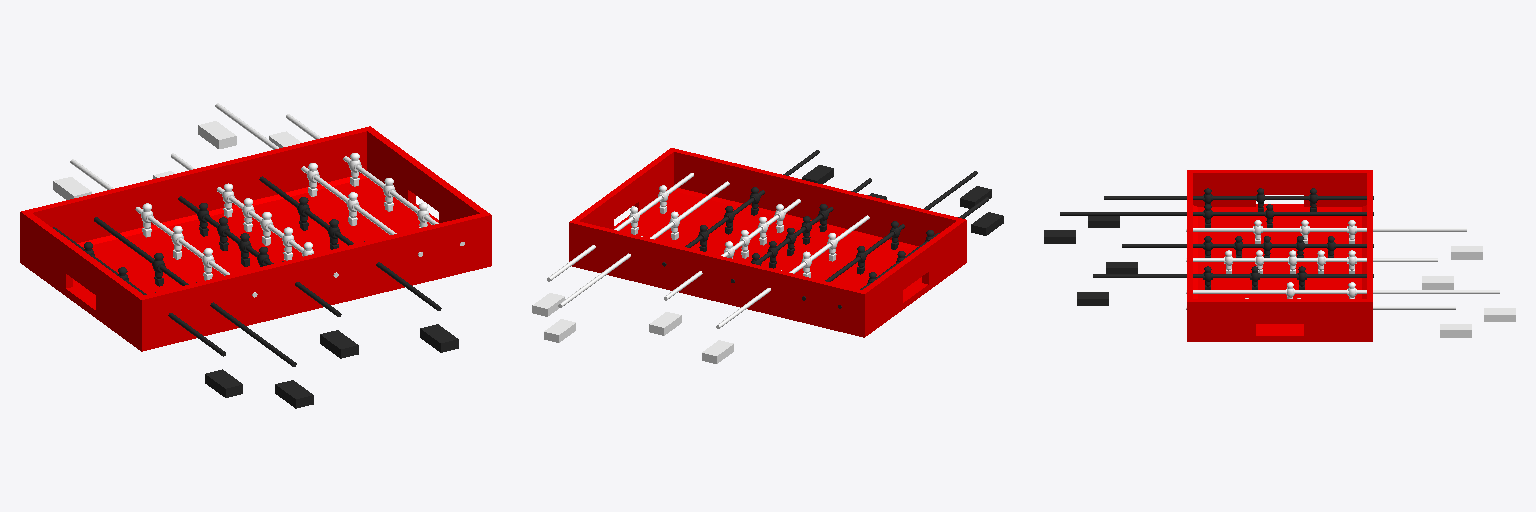
--- What the picture shows (computed from the rendered views, not written in the file) ---
The picture shows the robot from 3 angles, left to right: view 1: azimuth 30°, elevation 25°; view 2: azimuth 150°, elevation 25°; view 3: azimuth 270°, elevation 25°; orthographic projection.
Robot: collision_table — 43 links, 42 joints (8 continuous, 8 prismatic, 26 fixed); root link baseLink; default pose: every joint at zero.
Links seen in each view (by area): view 1: baseLink, defenseRod2, defenseRod1, strikerRod2, strikerBlock2, midfieldBlock2, strikerRod1, defenseBlock2, defenseBlock1, goalieBlock2, midfieldRod2, goalieRod1 (+2 smaller); view 2: baseLink, defenseRod1, defenseRod2, strikerRod1, goalieRod1; view 3: baseLink, defenseRod1, defenseRod2, strikerRod1, strikerRod2, goalieRod2, midfieldRod1, midfieldRod2.
Boxes of the visible links, x1,y1,x2,y2 form: baseLink: (20, 126, 491, 351); defenseRod2: (94, 217, 296, 366); defenseRod1: (215, 103, 422, 256); strikerRod2: (259, 176, 441, 310); strikerBlock2: (420, 324, 458, 352); midfieldBlock2: (320, 330, 358, 358); strikerRod1: (70, 159, 257, 297); defenseBlock2: (275, 380, 313, 408); defenseBlock1: (198, 121, 236, 148); goalieBlock2: (205, 369, 242, 397); midfieldRod2: (178, 196, 341, 316); goalieRod1: (286, 114, 464, 245); baseLink: (569, 148, 966, 337); defenseRod1: (558, 181, 729, 307); defenseRod2: (802, 171, 977, 300); strikerRod1: (716, 215, 869, 328); goalieRod1: (547, 173, 693, 281); baseLink: (1187, 170, 1372, 341); defenseRod1: (1186, 290, 1499, 293); defenseRod2: (1060, 212, 1373, 215); strikerRod1: (1186, 228, 1466, 231); strikerRod2: (1093, 274, 1373, 277); goalieRod2: (1104, 196, 1373, 199); midfieldRod1: (1186, 258, 1437, 261); midfieldRod2: (1122, 244, 1373, 247).
Size in the robot's own frame: 1.22 by 1.84 by 0.1871 metres.
Meshes: 2 distinct files referenced, 27 mesh visuals loaded (2 OBJ).

URDF robot description (collision_table):
<?xml version="1.0" ?>
<!-- =================================================================================== -->
<!-- |    This document was autogenerated by xacro from TableTest.urdf                 | -->
<!-- |    EDITING THIS FILE BY HAND IS NOT RECOMMENDED                                 | -->
<!-- =================================================================================== -->
<robot name="collision_table">
  <link concave="yes" name="baseLink">
    <contact>
      <lateral_friction value="0.5"/>
      <rolling_friction value="0.0"/>
      <contact_cfm value="0.0"/>
      <contact_erp value="1.0"/>
    </contact>
    <collision concave="yes">
      <geometry>
        <mesh filename="CollisionTable.obj" scale=".001 .001 .001"/>
      </geometry>
      <origin rpy="1.5707963267948966 0 0" xyz="-.6096 .365125 0"/>
    </collision>
    <visual>
      <origin rpy="1.5707963267948966 0 0" xyz="-.6096 .365125 0"/>
      <geometry>
        <mesh filename="CollisionTable.obj" scale=".001 .001 .001"/>
      </geometry>
      <material name="red">
        <color rgba="1 0 0 1"/>
      </material>
    </visual>
    <inertial>
      <mass value="0"/>
      <inertia ixx="0" ixy="0" ixz="0" iyy="0" iyz="0" izz="0"/>
      <origin rpy="1.5707963267948966 0 0" xyz="-.6096 .365125 0"/>
    </inertial>
  </link>
  <link name="goalieBlock1">
    <collision>
      <origin rpy="-1.5707963267948966 0 0" xyz="0 0 0"/>
      <geometry>
        <box size=".0625 .03125 .125"/>
      </geometry>
    </collision>
    <visual>
      <origin rpy="-1.5707963267948966 0 0" xyz="0 0 0"/>
      <geometry>
        <box size=".0625 .03125 .125"/>
      </geometry>
      <material name="white">
        <color rgba="1 1 1 1"/>
      </material>
    </visual>
    <inertial>
      <mass value="1"/>
      <inertia ixx="0" ixy="0" ixz="0" iyy="0" iyz="0" izz="0"/>
      <origin rpy="-1.5707963267948966 0 0" xyz="0 0 0"/>
    </inertial>
  </link>
  <link name="goalieBlock2">
    <collision>
      <origin rpy="-1.5707963267948966 0 0" xyz="0 0 0"/>
      <geometry>
        <box size=".0625 .03125 .125"/>
      </geometry>
    </collision>
    <visual>
      <origin rpy="-1.5707963267948966 0 0" xyz="0 0 0"/>
      <geometry>
        <box size=".0625 .03125 .125"/>
      </geometry>
      <material name="black">
        <color rgba="0.2 0.2 0.2 1"/>
      </material>
    </visual>
    <inertial>
      <mass value="1"/>
      <inertia ixx="0" ixy="0" ixz="0" iyy="0" iyz="0" izz="0"/>
      <origin rpy="-1.5707963267948966 0 0" xyz="0 0 0"/>
    </inertial>
  </link>
  <link name="defenseBlock1">
    <collision>
      <origin rpy="-1.5707963267948966 0 0" xyz="0 0 0"/>
      <geometry>
        <box size=".0625 .03125 .125"/>
      </geometry>
    </collision>
    <visual>
      <origin rpy="-1.5707963267948966 0 0" xyz="0 0 0"/>
      <geometry>
        <box size=".0625 .03125 .125"/>
      </geometry>
      <material name="white"/>
    </visual>
    <inertial>
      <mass value="1"/>
      <inertia ixx="0" ixy="0" ixz="0" iyy="0" iyz="0" izz="0"/>
      <origin rpy="-1.5707963267948966 0 0" xyz="0 0 0"/>
    </inertial>
  </link>
  <link name="defenseBlock2">
    <collision>
      <origin rpy="-1.5707963267948966 0 0" xyz="0 0 0"/>
      <geometry>
        <box size=".0625 .03125 .125"/>
      </geometry>
    </collision>
    <visual>
      <origin rpy="-1.5707963267948966 0 0" xyz="0 0 0"/>
      <geometry>
        <box size=".0625 .03125 .125"/>
      </geometry>
      <material name="black"/>
    </visual>
    <inertial>
      <mass value="1"/>
      <inertia ixx="0" ixy="0" ixz="0" iyy="0" iyz="0" izz="0"/>
      <origin rpy="-1.5707963267948966 0 0" xyz="0 0 0"/>
    </inertial>
  </link>
  <link name="midfieldBlock1">
    <collision>
      <origin rpy="-1.5707963267948966 0 0" xyz="0 0 0"/>
      <geometry>
        <box size=".0625 .03125 .125"/>
      </geometry>
    </collision>
    <visual>
      <origin rpy="-1.5707963267948966 0 0" xyz="0 0 0"/>
      <geometry>
        <box size=".0625 .03125 .125"/>
      </geometry>
      <material name="white"/>
    </visual>
    <inertial>
      <mass value="1"/>
      <inertia ixx="0" ixy="0" ixz="0" iyy="0" iyz="0" izz="0"/>
      <origin rpy="-1.5707963267948966 0 0" xyz="0 0 0"/>
    </inertial>
  </link>
  <link name="midfieldBlock2">
    <collision>
      <origin rpy="-1.5707963267948966 0 0" xyz="0 0 0"/>
      <geometry>
        <box size=".0625 .03125 .125"/>
      </geometry>
    </collision>
    <visual>
      <origin rpy="-1.5707963267948966 0 0" xyz="0 0 0"/>
      <geometry>
        <box size=".0625 .03125 .125"/>
      </geometry>
      <material name="black"/>
    </visual>
    <inertial>
      <mass value="1"/>
      <inertia ixx="0" ixy="0" ixz="0" iyy="0" iyz="0" izz="0"/>
      <origin rpy="-1.5707963267948966 0 0" xyz="0 0 0"/>
    </inertial>
  </link>
  <link name="strikerBlock1">
    <collision>
      <origin rpy="-1.5707963267948966 0 0" xyz="0 0 0"/>
      <geometry>
        <box size=".0625 .03125 .125"/>
      </geometry>
    </collision>
    <visual>
      <origin rpy="-1.5707963267948966 0 0" xyz="0 0 0"/>
      <geometry>
        <box size=".0625 .03125 .125"/>
      </geometry>
      <material name="white"/>
    </visual>
    <inertial>
      <mass value="1"/>
      <inertia ixx="0" ixy="0" ixz="0" iyy="0" iyz="0" izz="0"/>
      <origin rpy="-1.5707963267948966 0 0" xyz="0 0 0"/>
    </inertial>
  </link>
  <link name="strikerBlock2">
    <collision>
      <origin rpy="-1.5707963267948966 0 0" xyz="0 0 0"/>
      <geometry>
        <box size=".0625 .03125 .125"/>
      </geometry>
    </collision>
    <visual>
      <origin rpy="-1.5707963267948966 0 0" xyz="0 0 0"/>
      <geometry>
        <box size=".0625 .03125 .125"/>
      </geometry>
      <material name="black"/>
    </visual>
    <inertial>
      <mass value="1"/>
      <inertia ixx="0" ixy="0" ixz="0" iyy="0" iyz="0" izz="0"/>
      <origin rpy="-1.5707963267948966 0 0" xyz="0 0 0"/>
    </inertial>
  </link>
  <link name="goalieRod1">
    <collision>
      <origin rpy="-1.5707963267948966 0 0" xyz="0 0.52705 0"/>
      <geometry>
        <cylinder length="1.0541" radius="0.0078613"/>
      </geometry>
    </collision>
    <visual>
      <origin rpy="-1.5707963267948966 0 0" xyz="0 0.52705 0"/>
      <geometry>
        <cylinder length="1.0541" radius="0.0078613"/>
      </geometry>
      <material name="white"/>
    </visual>
    <inertial>
      <mass value="1"/>
      <inertia ixx="0" ixy="0" ixz="0" iyy="0" iyz="0" izz="0"/>
      <origin rpy="-1.5707963267948966 0 0" xyz="0 .52075 0"/>
    </inertial>
  </link>
  <link name="goalieRod2">
    <collision>
      <origin rpy="-1.5707963267948966 0 0" xyz="0 0.52705 0"/>
      <geometry>
        <cylinder length="1.0541" radius="0.0078613"/>
      </geometry>
    </collision>
    <visual>
      <origin rpy="-1.5707963267948966 0 0" xyz="0 0.52705 0"/>
      <geometry>
        <cylinder length="1.0541" radius="0.0078613"/>
      </geometry>
      <material name="black"/>
    </visual>
    <inertial>
      <mass value="1"/>
      <inertia ixx="0" ixy="0" ixz="0" iyy="0" iyz="0" izz="0"/>
      <origin rpy="-1.5707963267948966 0 0" xyz="0 0.52705 0"/>
    </inertial>
  </link>
  <link name="defenseRod1">
    <collision>
      <origin rpy="-1.5707963267948966 0 0" xyz="0 0.6143625 0"/>
      <geometry>
        <cylinder length="1.228725" radius="0.0078613"/>
      </geometry>
    </collision>
    <visual>
      <origin rpy="-1.5707963267948966 0 0" xyz="0 0.6143625 0"/>
      <geometry>
        <cylinder length="1.228725" radius="0.0078613"/>
      </geometry>
      <material name="white"/>
    </visual>
    <inertial>
      <mass value="1"/>
      <inertia ixx="0" ixy="0" ixz="0" iyy="0" iyz="0" izz="0"/>
      <origin rpy="-1.5707963267948966 0 0" xyz="0 0.6143625 0"/>
    </inertial>
  </link>
  <link name="defenseRod2">
    <collision>
      <origin rpy="-1.5707963267948966 0 0" xyz="0 0.6143625 0"/>
      <geometry>
        <cylinder length="1.228725" radius="0.0078613"/>
      </geometry>
    </collision>
    <visual>
      <origin rpy="-1.5707963267948966 0 0" xyz="0 0.6143625 0"/>
      <geometry>
        <cylinder length="1.228725" radius="0.0078613"/>
      </geometry>
      <material name="black"/>
    </visual>
    <inertial>
      <mass value="1"/>
      <inertia ixx="0" ixy="0" ixz="0" iyy="0" iyz="0" izz="0"/>
      <origin rpy="-1.5707963267948966 0 0" xyz="0 0.6143625 0"/>
    </inertial>
  </link>
  <link name="midfieldRod1">
    <collision>
      <origin rpy="-1.5707963267948966 0 0" xyz="0 0.4937125 0"/>
      <geometry>
        <cylinder length="0.987425" radius="0.0078613"/>
      </geometry>
    </collision>
    <visual>
      <origin rpy="-1.5707963267948966 0 0" xyz="0 0.4937125 0"/>
      <geometry>
        <cylinder length="0.987425" radius="0.0078613"/>
      </geometry>
      <material name="white"/>
    </visual>
    <inertial>
      <mass value="1"/>
      <inertia ixx="0" ixy="0" ixz="0" iyy="0" iyz="0" izz="0"/>
      <origin rpy="-1.5707963267948966 0 0" xyz="0 0.4937125 0"/>
    </inertial>
  </link>
  <link name="midfieldRod2">
    <collision>
      <origin rpy="-1.5707963267948966 0 0" xyz="0 0.4937125 0"/>
      <geometry>
        <cylinder length="0.987425" radius="0.0078613"/>
      </geometry>
    </collision>
    <visual>
      <origin rpy="-1.5707963267948966 0 0" xyz="0 0.4937125 0"/>
      <geometry>
        <cylinder length="0.987425" radius="0.0078613"/>
      </geometry>
      <material name="black"/>
    </visual>
    <inertial>
      <mass value="1"/>
      <inertia ixx="0" ixy="0" ixz="0" iyy="0" iyz="0" izz="0"/>
      <origin rpy="-1.5707963267948966 0 0" xyz="0 0.4937125 0"/>
    </inertial>
  </link>
  <link name="strikerRod1">
    <collision>
      <origin rpy="-1.5707963267948966 0 0" xyz="0 0.5508625 0"/>
      <geometry>
        <cylinder length="1.101725" radius="0.0078613"/>
      </geometry>
    </collision>
    <visual>
      <origin rpy="-1.5707963267948966 0 0" xyz="0 0.5508625 0"/>
      <geometry>
        <cylinder length="1.101725" radius="0.0078613"/>
      </geometry>
      <material name="white"/>
    </visual>
    <inertial>
      <mass value="1"/>
      <inertia ixx="0" ixy="0" ixz="0" iyy="0" iyz="0" izz="0"/>
      <origin rpy="-1.5707963267948966 0 0" xyz="0 0.5508625 0"/>
    </inertial>
  </link>
  <link name="strikerRod2">
    <collision>
      <origin rpy="-1.5707963267948966 0 0" xyz="0 0.5508625 0"/>
      <geometry>
        <cylinder length="1.101725" radius="0.0078613"/>
      </geometry>
    </collision>
    <visual>
      <origin rpy="-1.5707963267948966 0 0" xyz="0 0.5508625 0"/>
      <geometry>
        <cylinder length="1.101725" radius="0.0078613"/>
      </geometry>
      <material name="black"/>
    </visual>
    <inertial>
      <mass value="1"/>
      <inertia ixx="0" ixy="0" ixz="0" iyy="0" iyz="0" izz="0"/>
      <origin rpy="-1.5707963267948966 0 0" xyz="0 0.5508625 0"/>
    </inertial>
  </link>
  <link name="goaliePlayer11">
    <contact>
      <lateral_friction value="0.5"/>
      <rolling_friction value="0.0"/>
      <contact_cfm value="0.0"/>
      <contact_erp value="1.0"/>
    </contact>
    <collision>
      <origin rpy="1.5707963267948966 0 0" xyz="0 0 -0.0658368"/>
      <geometry>
        <mesh filename="PlayerCollider.obj" scale=".001 .001 .001"/>
      </geometry>
    </collision>
    <visual>
      <origin rpy="1.5707963267948966 0 0" xyz="0 0 -0.0658368"/>
      <geometry>
        <mesh filename="PlayerVisual.obj" scale=".001 .001 .001"/>
      </geometry>
      <material name="white"/>
    </visual>
    <inertial>
      <mass value="1"/>
      <inertia ixx="0" ixy="0" ixz="0" iyy="0" iyz="0" izz="0"/>
      <origin rpy="-1.5707963267948966 0 0" xyz="0 0 0"/>
    </inertial>
  </link>
  <link name="goaliePlayer12">
    <contact>
      <lateral_friction value="0.5"/>
      <rolling_friction value="0.0"/>
      <contact_cfm value="0.0"/>
      <contact_erp value="1.0"/>
    </contact>
    <collision>
      <origin rpy="1.5707963267948966 0 0" xyz="0 0 -0.0658368"/>
      <geometry>
        <mesh filename="PlayerCollider.obj" scale=".001 .001 .001"/>
      </geometry>
    </collision>
    <visual>
      <origin rpy="1.5707963267948966 0 0" xyz="0 0 -0.0658368"/>
      <geometry>
        <mesh filename="PlayerVisual.obj" scale=".001 .001 .001"/>
      </geometry>
      <material name="white"/>
    </visual>
    <inertial>
      <mass value="1"/>
      <inertia ixx="0" ixy="0" ixz="0" iyy="0" iyz="0" izz="0"/>
      <origin rpy="-1.5707963267948966 0 0" xyz="0 0 0"/>
    </inertial>
  </link>
  <link name="goaliePlayer13">
    <contact>
      <lateral_friction value="0.5"/>
      <rolling_friction value="0.0"/>
      <contact_cfm value="0.0"/>
      <contact_erp value="1.0"/>
    </contact>
    <collision>
      <origin rpy="1.5707963267948966 0 0" xyz="0 0 -0.0658368"/>
      <geometry>
        <mesh filename="PlayerCollider.obj" scale=".001 .001 .001"/>
      </geometry>
    </collision>
    <visual>
      <origin rpy="1.5707963267948966 0 0" xyz="0 0 -0.0658368"/>
      <geometry>
        <mesh filename="PlayerVisual.obj" scale=".001 .001 .001"/>
      </geometry>
      <material name="white"/>
    </visual>
    <inertial>
      <mass value="1"/>
      <inertia ixx="0" ixy="0" ixz="0" iyy="0" iyz="0" izz="0"/>
      <origin rpy="-1.5707963267948966 0 0" xyz="0 0 0"/>
    </inertial>
  </link>
  <link name="goaliePlayer21">
    <contact>
      <lateral_friction value="0.5"/>
      <rolling_friction value="0.0"/>
      <contact_cfm value="0.0"/>
      <contact_erp value="1.0"/>
    </contact>
    <collision>
      <origin rpy="1.5707963267948966 0 0" xyz="0 0 -0.0658368"/>
      <geometry>
        <mesh filename="PlayerCollider.obj" scale=".001 .001 .001"/>
      </geometry>
    </collision>
    <visual>
      <origin rpy="1.5707963267948966 0 0" xyz="0 0 -0.0658368"/>
      <geometry>
        <mesh filename="PlayerVisual.obj" scale=".001 .001 .001"/>
      </geometry>
      <material name="black"/>
    </visual>
    <inertial>
      <mass value="1"/>
      <inertia ixx="0" ixy="0" ixz="0" iyy="0" iyz="0" izz="0"/>
      <origin rpy="-1.5707963267948966 0 0" xyz="0 0 0"/>
    </inertial>
  </link>
  <link name="goaliePlayer22">
    <contact>
      <lateral_friction value="0.5"/>
      <rolling_friction value="0.0"/>
      <contact_cfm value="0.0"/>
      <contact_erp value="1.0"/>
    </contact>
    <collision>
      <origin rpy="1.5707963267948966 0 0" xyz="0 0 -0.0658368"/>
      <geometry>
        <mesh filename="PlayerCollider.obj" scale=".001 .001 .001"/>
      </geometry>
    </collision>
    <visual>
      <origin rpy="1.5707963267948966 0 0" xyz="0 0 -0.0658368"/>
      <geometry>
        <mesh filename="PlayerVisual.obj" scale=".001 .001 .001"/>
      </geometry>
      <material name="black"/>
    </visual>
    <inertial>
      <mass value="1"/>
      <inertia ixx="0" ixy="0" ixz="0" iyy="0" iyz="0" izz="0"/>
      <origin rpy="-1.5707963267948966 0 0" xyz="0 0 0"/>
    </inertial>
  </link>
  <link name="goaliePlayer23">
    <contact>
      <lateral_friction value="0.5"/>
      <rolling_friction value="0.0"/>
      <contact_cfm value="0.0"/>
      <contact_erp value="1.0"/>
    </contact>
    <collision>
      <origin rpy="1.5707963267948966 0 0" xyz="0 0 -0.0658368"/>
      <geometry>
        <mesh filename="PlayerCollider.obj" scale=".001 .001 .001"/>
      </geometry>
    </collision>
    <visual>
      <origin rpy="1.5707963267948966 0 0" xyz="0 0 -0.0658368"/>
      <geometry>
        <mesh filename="PlayerVisual.obj" scale=".001 .001 .001"/>
      </geometry>
      <material name="black"/>
    </visual>
    <inertial>
      <mass value="1"/>
      <inertia ixx="0" ixy="0" ixz="0" iyy="0" iyz="0" izz="0"/>
      <origin rpy="-1.5707963267948966 0 0" xyz="0 0 0"/>
    </inertial>
  </link>
  <link name="defensePlayer11">
    <contact>
      <lateral_friction value="0.5"/>
      <rolling_friction value="0.0"/>
      <contact_cfm value="0.0"/>
      <contact_erp value="1.0"/>
    </contact>
    <collision>
      <origin rpy="1.5707963267948966 0 0" xyz="0 0 -0.0658368"/>
      <geometry>
        <mesh filename="PlayerCollider.obj" scale=".001 .001 .001"/>
      </geometry>
    </collision>
    <visual>
      <origin rpy="1.5707963267948966 0 0" xyz="0 0 -0.0658368"/>
      <geometry>
        <mesh filename="PlayerVisual.obj" scale=".001 .001 .001"/>
      </geometry>
      <material name="white"/>
    </visual>
    <inertial>
      <mass value="1"/>
      <inertia ixx="0" ixy="0" ixz="0" iyy="0" iyz="0" izz="0"/>
      <origin rpy="-1.5707963267948966 0 0" xyz="0 0 0"/>
    </inertial>
  </link>
  <link name="defensePlayer12">
    <contact>
      <lateral_friction value="0.5"/>
      <rolling_friction value="0.0"/>
      <contact_cfm value="0.0"/>
      <contact_erp value="1.0"/>
    </contact>
    <collision>
      <origin rpy="1.5707963267948966 0 0" xyz="0 0 -0.0658368"/>
      <geometry>
        <mesh filename="PlayerCollider.obj" scale=".001 .001 .001"/>
      </geometry>
    </collision>
    <visual>
      <origin rpy="1.5707963267948966 0 0" xyz="0 0 -0.0658368"/>
      <geometry>
        <mesh filename="PlayerVisual.obj" scale=".001 .001 .001"/>
      </geometry>
      <material name="white"/>
    </visual>
    <inertial>
      <mass value="1"/>
      <inertia ixx="0" ixy="0" ixz="0" iyy="0" iyz="0" izz="0"/>
      <origin rpy="-1.5707963267948966 0 0" xyz="0 0 0"/>
    </inertial>
  </link>
  <link name="defensePlayer21">
    <contact>
      <lateral_friction value="0.5"/>
      <rolling_friction value="0.0"/>
      <contact_cfm value="0.0"/>
      <contact_erp value="1.0"/>
    </contact>
    <collision>
      <origin rpy="1.5707963267948966 0 0" xyz="0 0 -0.0658368"/>
      <geometry>
        <mesh filename="PlayerCollider.obj" scale=".001 .001 .001"/>
      </geometry>
    </collision>
    <visual>
      <origin rpy="1.5707963267948966 0 0" xyz="0 0 -0.0658368"/>
      <geometry>
        <mesh filename="PlayerVisual.obj" scale=".001 .001 .001"/>
      </geometry>
      <material name="black"/>
    </visual>
    <inertial>
      <mass value="1"/>
      <inertia ixx="0" ixy="0" ixz="0" iyy="0" iyz="0" izz="0"/>
      <origin rpy="-1.5707963267948966 0 0" xyz="0 0 0"/>
    </inertial>
  </link>
  <link name="defensePlayer22">
    <contact>
      <lateral_friction value="0.5"/>
      <rolling_friction value="0.0"/>
      <contact_cfm value="0.0"/>
      <contact_erp value="1.0"/>
    </contact>
    <collision>
      <origin rpy="1.5707963267948966 0 0" xyz="0 0 -0.0658368"/>
      <geometry>
        <mesh filename="PlayerCollider.obj" scale=".001 .001 .001"/>
      </geometry>
    </collision>
    <visual>
      <origin rpy="1.5707963267948966 0 0" xyz="0 0 -0.0658368"/>
      <geometry>
        <mesh filename="PlayerVisual.obj" scale=".001 .001 .001"/>
      </geometry>
      <material name="black"/>
    </visual>
    <inertial>
      <mass value="1"/>
      <inertia ixx="0" ixy="0" ixz="0" iyy="0" iyz="0" izz="0"/>
      <origin rpy="-1.5707963267948966 0 0" xyz="0 0 0"/>
    </inertial>
  </link>
  <link name="midfieldPlayer11">
    <contact>
      <lateral_friction value="0.5"/>
      <rolling_friction value="0.0"/>
      <contact_cfm value="0.0"/>
      <contact_erp value="1.0"/>
    </contact>
    <collision>
      <origin rpy="1.5707963267948966 0 0" xyz="0 0 -0.0658368"/>
      <geometry>
        <mesh filename="PlayerCollider.obj" scale=".001 .001 .001"/>
      </geometry>
    </collision>
    <visual>
      <origin rpy="1.5707963267948966 0 0" xyz="0 0 -0.0658368"/>
      <geometry>
        <mesh filename="PlayerVisual.obj" scale=".001 .001 .001"/>
      </geometry>
      <material name="white"/>
    </visual>
    <inertial>
      <mass value="1"/>
      <inertia ixx="0" ixy="0" ixz="0" iyy="0" iyz="0" izz="0"/>
      <origin rpy="-1.5707963267948966 0 0" xyz="0 0 0"/>
    </inertial>
  </link>
  <link name="midfieldPlayer12">
    <contact>
      <lateral_friction value="0.5"/>
      <rolling_friction value="0.0"/>
      <contact_cfm value="0.0"/>
      <contact_erp value="1.0"/>
    </contact>
    <collision>
      <origin rpy="1.5707963267948966 0 0" xyz="0 0 -0.0658368"/>
      <geometry>
        <mesh filename="PlayerCollider.obj" scale=".001 .001 .001"/>
      </geometry>
    </collision>
    <visual>
      <origin rpy="1.5707963267948966 0 0" xyz="0 0 -0.0658368"/>
      <geometry>
        <mesh filename="PlayerVisual.obj" scale=".001 .001 .001"/>
      </geometry>
      <material name="white"/>
    </visual>
    <inertial>
      <mass value="1"/>
      <inertia ixx="0" ixy="0" ixz="0" iyy="0" iyz="0" izz="0"/>
      <origin rpy="-1.5707963267948966 0 0" xyz="0 0 0"/>
    </inertial>
  </link>
  <link name="midfieldPlayer13">
    <contact>
      <lateral_friction value="0.5"/>
      <rolling_friction value="0.0"/>
      <contact_cfm value="0.0"/>
      <contact_erp value="1.0"/>
    </contact>
    <collision>
      <origin rpy="1.5707963267948966 0 0" xyz="0 0 -0.0658368"/>
      <geometry>
        <mesh filename="PlayerCollider.obj" scale=".001 .001 .001"/>
      </geometry>
    </collision>
    <visual>
      <origin rpy="1.5707963267948966 0 0" xyz="0 0 -0.0658368"/>
      <geometry>
        <mesh filename="PlayerVisual.obj" scale=".001 .001 .001"/>
      </geometry>
      <material name="white"/>
    </visual>
    <inertial>
      <mass value="1"/>
      <inertia ixx="0" ixy="0" ixz="0" iyy="0" iyz="0" izz="0"/>
      <origin rpy="-1.5707963267948966 0 0" xyz="0 0 0"/>
    </inertial>
  </link>
  <link name="midfieldPlayer14">
    <contact>
      <lateral_friction value="0.5"/>
      <rolling_friction value="0.0"/>
      <contact_cfm value="0.0"/>
      <contact_erp value="1.0"/>
    </contact>
    <collision>
      <origin rpy="1.5707963267948966 0 0" xyz="0 0 -0.0658368"/>
      <geometry>
        <mesh filename="PlayerCollider.obj" scale=".001 .001 .001"/>
      </geometry>
    </collision>
    <visual>
      <origin rpy="1.5707963267948966 0 0" xyz="0 0 -0.0658368"/>
      <geometry>
        <mesh filename="PlayerVisual.obj" scale=".001 .001 .001"/>
      </geometry>
      <material name="white"/>
    </visual>
    <inertial>
      <mass value="1"/>
      <inertia ixx="0" ixy="0" ixz="0" iyy="0" iyz="0" izz="0"/>
      <origin rpy="-1.5707963267948966 0 0" xyz="0 0 0"/>
    </inertial>
  </link>
  <link name="midfieldPlayer15">
    <contact>
      <lateral_friction value="0.5"/>
      <rolling_friction value="0.0"/>
      <contact_cfm value="0.0"/>
      <contact_erp value="1.0"/>
    </contact>
    <collision>
      <origin rpy="1.5707963267948966 0 0" xyz="0 0 -0.0658368"/>
      <geometry>
        <mesh filename="PlayerCollider.obj" scale=".001 .001 .001"/>
      </geometry>
    </collision>
    <visual>
      <origin rpy="1.5707963267948966 0 0" xyz="0 0 -0.0658368"/>
      <geometry>
        <mesh filename="PlayerVisual.obj" scale=".001 .001 .001"/>
      </geometry>
      <material name="white"/>
    </visual>
    <inertial>
      <mass value="1"/>
      <inertia ixx="0" ixy="0" ixz="0" iyy="0" iyz="0" izz="0"/>
      <origin rpy="-1.5707963267948966 0 0" xyz="0 0 0"/>
    </inertial>
  </link>
  <link name="midfieldPlayer21">
    <contact>
      <lateral_friction value="0.5"/>
      <rolling_friction value="0.0"/>
      <contact_cfm value="0.0"/>
      <contact_erp value="1.0"/>
    </contact>
    <collision>
      <origin rpy="1.5707963267948966 0 0" xyz="0 0 -0.0658368"/>
      <geometry>
        <mesh filename="PlayerCollider.obj" scale=".001 .001 .001"/>
      </geometry>
    </collision>
    <visual>
      <origin rpy="1.5707963267948966 0 0" xyz="0 0 -0.0658368"/>
      <geometry>
        <mesh filename="PlayerVisual.obj" scale=".001 .001 .001"/>
      </geometry>
      <material name="black"/>
    </visual>
    <inertial>
      <mass value="1"/>
      <inertia ixx="0" ixy="0" ixz="0" iyy="0" iyz="0" izz="0"/>
      <origin rpy="-1.5707963267948966 0 0" xyz="0 0 0"/>
    </inertial>
  </link>
  <link name="midfieldPlayer22">
    <contact>
      <lateral_friction value="0.5"/>
      <rolling_friction value="0.0"/>
      <contact_cfm value="0.0"/>
      <contact_erp value="1.0"/>
    </contact>
    <collision>
      <origin rpy="1.5707963267948966 0 0" xyz="0 0 -0.0658368"/>
      <geometry>
        <mesh filename="PlayerCollider.obj" scale=".001 .001 .001"/>
      </geometry>
    </collision>
    <visual>
      <origin rpy="1.5707963267948966 0 0" xyz="0 0 -0.0658368"/>
      <geometry>
        <mesh filename="PlayerVisual.obj" scale=".001 .001 .001"/>
      </geometry>
      <material name="black"/>
    </visual>
    <inertial>
      <mass value="1"/>
      <inertia ixx="0" ixy="0" ixz="0" iyy="0" iyz="0" izz="0"/>
      <origin rpy="-1.5707963267948966 0 0" xyz="0 0 0"/>
    </inertial>
  </link>
  <link name="midfieldPlayer23">
    <contact>
      <lateral_friction value="0.5"/>
      <rolling_friction value="0.0"/>
      <contact_cfm value="0.0"/>
      <contact_erp value="1.0"/>
    </contact>
    <collision>
      <origin rpy="1.5707963267948966 0 0" xyz="0 0 -0.0658368"/>
      <geometry>
        <mesh filename="PlayerCollider.obj" scale=".001 .001 .001"/>
      </geometry>
    </collision>
    <visual>
      <origin rpy="1.5707963267948966 0 0" xyz="0 0 -0.0658368"/>
      <geometry>
        <mesh filename="PlayerVisual.obj" scale=".001 .001 .001"/>
      </geometry>
      <material name="black"/>
    </visual>
    <inertial>
      <mass value="1"/>
      <inertia ixx="0" ixy="0" ixz="0" iyy="0" iyz="0" izz="0"/>
      <origin rpy="-1.5707963267948966 0 0" xyz="0 0 0"/>
    </inertial>
  </link>
  <link name="midfieldPlayer24">
    <contact>
      <lateral_friction value="0.5"/>
      <rolling_friction value="0.0"/>
      <contact_cfm value="0.0"/>
      <contact_erp value="1.0"/>
    </contact>
    <collision>
      <origin rpy="1.5707963267948966 0 0" xyz="0 0 -0.0658368"/>
      <geometry>
        <mesh filename="PlayerCollider.obj" scale=".001 .001 .001"/>
      </geometry>
    </collision>
    <visual>
      <origin rpy="1.5707963267948966 0 0" xyz="0 0 -0.0658368"/>
      <geometry>
        <mesh filename="PlayerVisual.obj" scale=".001 .001 .001"/>
      </geometry>
      <material name="black"/>
    </visual>
    <inertial>
      <mass value="1"/>
      <inertia ixx="0" ixy="0" ixz="0" iyy="0" iyz="0" izz="0"/>
      <origin rpy="-1.5707963267948966 0 0" xyz="0 0 0"/>
    </inertial>
  </link>
  <link name="midfieldPlayer25">
    <contact>
      <lateral_friction value="0.5"/>
      <rolling_friction value="0.0"/>
      <contact_cfm value="0.0"/>
      <contact_erp value="1.0"/>
    </contact>
    <collision>
      <origin rpy="1.5707963267948966 0 0" xyz="0 0 -0.0658368"/>
      <geometry>
        <mesh filename="PlayerCollider.obj" scale=".001 .001 .001"/>
      </geometry>
    </collision>
    <visual>
      <origin rpy="1.5707963267948966 0 0" xyz="0 0 -0.0658368"/>
      <geometry>
        <mesh filename="PlayerVisual.obj" scale=".001 .001 .001"/>
      </geometry>
      <material name="black"/>
    </visual>
    <inertial>
      <mass value="1"/>
      <inertia ixx="0" ixy="0" ixz="0" iyy="0" iyz="0" izz="0"/>
      <origin rpy="-1.5707963267948966 0 0" xyz="0 0 0"/>
    </inertial>
  </link>
  <link name="strikerPlayer11">
    <contact>
      <lateral_friction value="0.5"/>
      <rolling_friction value="0.0"/>
      <contact_cfm value="0.0"/>
      <contact_erp value="1.0"/>
    </contact>
    <collision>
      <origin rpy="1.5707963267948966 0 0" xyz="0 0 -0.0658368"/>
      <geometry>
        <mesh filename="PlayerCollider.obj" scale=".001 .001 .001"/>
      </geometry>
    </collision>
    <visual>
      <origin rpy="1.5707963267948966 0 0" xyz="0 0 -0.0658368"/>
      <geometry>
        <mesh filename="PlayerVisual.obj" scale=".001 .001 .001"/>
      </geometry>
      <material name="white"/>
    </visual>
    <inertial>
      <mass value="1"/>
      <inertia ixx="0" ixy="0" ixz="0" iyy="0" iyz="0" izz="0"/>
      <origin rpy="-1.5707963267948966 0 0" xyz="0 0 0"/>
    </inertial>
  </link>
  <link name="strikerPlayer12">
    <contact>
      <lateral_friction value="0.5"/>
      <rolling_friction value="0.0"/>
      <contact_cfm value="0.0"/>
      <contact_erp value="1.0"/>
    </contact>
    <collision>
      <origin rpy="1.5707963267948966 0 0" xyz="0 0 -0.0658368"/>
      <geometry>
        <mesh filename="PlayerCollider.obj" scale=".001 .001 .001"/>
      </geometry>
    </collision>
    <visual>
      <origin rpy="1.5707963267948966 0 0" xyz="0 0 -0.0658368"/>
      <geometry>
        <mesh filename="PlayerVisual.obj" scale=".001 .001 .001"/>
      </geometry>
      <material name="white"/>
    </visual>
    <inertial>
      <mass value="1"/>
      <inertia ixx="0" ixy="0" ixz="0" iyy="0" iyz="0" izz="0"/>
      <origin rpy="-1.5707963267948966 0 0" xyz="0 0 0"/>
    </inertial>
  </link>
  <link name="strikerPlayer13">
    <contact>
      <lateral_friction value="0.5"/>
      <rolling_friction value="0.0"/>
      <contact_cfm value="0.0"/>
      <contact_erp value="1.0"/>
    </contact>
    <collision>
      <origin rpy="1.5707963267948966 0 0" xyz="0 0 -0.0658368"/>
      <geometry>
        <mesh filename="PlayerCollider.obj" scale=".001 .001 .001"/>
      </geometry>
    </collision>
    <visual>
      <origin rpy="1.5707963267948966 0 0" xyz="0 0 -0.0658368"/>
      <geometry>
        <mesh filename="PlayerVisual.obj" scale=".001 .001 .001"/>
      </geometry>
      <material name="white"/>
    </visual>
    <inertial>
      <mass value="1"/>
      <inertia ixx="0" ixy="0" ixz="0" iyy="0" iyz="0" izz="0"/>
      <origin rpy="-1.5707963267948966 0 0" xyz="0 0 0"/>
    </inertial>
  </link>
  <link name="strikerPlayer21">
    <contact>
      <lateral_friction value="0.5"/>
      <rolling_friction value="0.0"/>
      <contact_cfm value="0.0"/>
      <contact_erp value="1.0"/>
    </contact>
    <collision>
      <origin rpy="1.5707963267948966 0 0" xyz="0 0 -0.0658368"/>
      <geometry>
        <mesh filename="PlayerCollider.obj" scale=".001 .001 .001"/>
      </geometry>
    </collision>
    <visual>
      <origin rpy="1.5707963267948966 0 0" xyz="0 0 -0.0658368"/>
      <geometry>
        <mesh filename="PlayerVisual.obj" scale=".001 .001 .001"/>
      </geometry>
      <material name="black"/>
    </visual>
    <inertial>
      <mass value="1"/>
      <inertia ixx="0" ixy="0" ixz="0" iyy="0" iyz="0" izz="0"/>
      <origin rpy="-1.5707963267948966 0 0" xyz="0 0 0"/>
    </inertial>
  </link>
  <link name="strikerPlayer22">
    <contact>
      <lateral_friction value="0.5"/>
      <rolling_friction value="0.0"/>
      <contact_cfm value="0.0"/>
      <contact_erp value="1.0"/>
    </contact>
    <collision>
      <origin rpy="1.5707963267948966 0 0" xyz="0 0 -0.0658368"/>
      <geometry>
        <mesh filename="PlayerCollider.obj" scale=".001 .001 .001"/>
      </geometry>
    </collision>
    <visual>
      <origin rpy="1.5707963267948966 0 0" xyz="0 0 -0.0658368"/>
      <geometry>
        <mesh filename="PlayerVisual.obj" scale=".001 .001 .001"/>
      </geometry>
      <material name="black"/>
    </visual>
    <inertial>
      <mass value="1"/>
      <inertia ixx="0" ixy="0" ixz="0" iyy="0" iyz="0" izz="0"/>
      <origin rpy="-1.5707963267948966 0 0" xyz="0 0 0"/>
    </inertial>
  </link>
  <link name="strikerPlayer23">
    <contact>
      <lateral_friction value="0.5"/>
      <rolling_friction value="0.0"/>
      <contact_cfm value="0.0"/>
      <contact_erp value="1.0"/>
    </contact>
    <collision>
      <origin rpy="1.5707963267948966 0 0" xyz="0 0 -0.0658368"/>
      <geometry>
        <mesh filename="PlayerCollider.obj" scale=".001 .001 .001"/>
      </geometry>
    </collision>
    <visual>
      <origin rpy="1.5707963267948966 0 0" xyz="0 0 -0.0658368"/>
      <geometry>
        <mesh filename="PlayerVisual.obj" scale=".001 .001 .001"/>
      </geometry>
      <material name="black"/>
    </visual>
    <inertial>
      <mass value="1"/>
      <inertia ixx="0" ixy="0" ixz="0" iyy="0" iyz="0" izz="0"/>
      <origin rpy="-1.5707963267948966 0 0" xyz="0 0 0"/>
    </inertial>
  </link>
  <joint name="goaliePrismatic1" type="prismatic">
    <origin rpy="0 0 3.14159265" xyz="0.508 0.687705 0"/>
    <parent link="baseLink"/>
    <child link="goalieBlock1"/>
    <limit lower="0" upper=".18161"/>
    <axis xyz="0 1 0"/>
  </joint>
  <joint name="goaliePrismatic2" type="prismatic">
    <origin rpy="0 0 0" xyz="-0.508 -0.687705 0"/>
    <parent link="baseLink"/>
    <child link="goalieBlock2"/>
    <limit lower="0" upper=".18161"/>
    <axis xyz="0 1 0"/>
  </joint>
  <joint name="defensePrismatic1" type="prismatic">
    <origin rpy="0 0 3.14159265" xyz="0.36195 0.859155 0"/>
    <parent link="baseLink"/>
    <child link="defenseBlock1"/>
    <limit lower="0" upper=".35306"/>
    <axis xyz="0 1 0"/>
  </joint>
  <joint name="defensePrismatic2" type="prismatic">
    <origin rpy="0 0 0" xyz="-0.36195 -0.859155 0"/>
    <parent link="baseLink"/>
    <child link="defenseBlock2"/>
    <limit lower="0" upper=".35306"/>
    <axis xyz="0 1 0"/>
  </joint>
  <joint name="midfieldPrismatic1" type="prismatic">
    <origin rpy="0 0 3.14159265" xyz="0.066675 0.617855 0"/>
    <parent link="baseLink"/>
    <child link="midfieldBlock1"/>
    <limit lower="0" upper=".11176"/>
    <axis xyz="0 1 0"/>
  </joint>
  <joint name="midfieldPrismatic2" type="prismatic">
    <origin rpy="0 0 0" xyz="-0.066675 -0.617855 0"/>
    <parent link="baseLink"/>
    <child link="midfieldBlock2"/>
    <limit lower="0" upper=".11176"/>
    <axis xyz="0 1 0"/>
  </joint>
  <joint name="strikerPrismatic1" type="prismatic">
    <origin rpy="0 0 3.14159265" xyz="-0.2159 0.732155 0"/>
    <parent link="baseLink"/>
    <child link="strikerBlock1"/>
    <limit lower="0" upper=".22606"/>
    <axis xyz="0 1 0"/>
  </joint>
  <joint name="strikerPrismatic2" type="prismatic">
    <origin rpy="0 0 0" xyz="0.2159 -0.732155 0"/>
    <parent link="baseLink"/>
    <child link="strikerBlock2"/>
    <limit lower="0" upper=".22606"/>
    <axis xyz="0 1 0"/>
  </joint>
  <joint name="goalieRotation1" type="continuous">
    <origin rpy="0 0 3.14159265" xyz="0 1.0541 0.098425"/>
    <parent link="goalieBlock1"/>
    <child link="goalieRod1"/>
    <axis xyz="0 1 0"/>
  </joint>
  <joint name="goalieRotation2" type="continuous">
    <origin rpy="0 0 3.14159265" xyz="0 1.0541 0.098425"/>
    <parent link="goalieBlock2"/>
    <child link="goalieRod2"/>
    <axis xyz="0 1 0"/>
  </joint>
  <joint name="defenseRotation1" type="continuous">
    <origin rpy="0 0 3.14152965" xyz="0 1.228725 0.098425"/>
    <parent link="defenseBlock1"/>
    <child link="defenseRod1"/>
    <axis xyz="0 1 0"/>
  </joint>
  <joint name="defenseRotation2" type="continuous">
    <origin rpy="0 0 3.14159265" xyz="0 1.228725 0.098425"/>
    <parent link="defenseBlock2"/>
    <child link="defenseRod2"/>
    <axis xyz="0 1 0"/>
  </joint>
  <joint name="midfieldRotation1" type="continuous">
    <origin rpy="0 0 3.14159265" xyz="0 0.987425 0.098425"/>
    <parent link="midfieldBlock1"/>
    <child link="midfieldRod1"/>
    <axis xyz="0 1 0"/>
  </joint>
  <joint name="midfieldRotation2" type="continuous">
    <origin rpy="0 0 3.14159265" xyz="0 0.987425 0.098425"/>
    <parent link="midfieldBlock2"/>
    <child link="midfieldRod2"/>
    <axis xyz="0 1 0"/>
  </joint>
  <joint name="strikerRotation1" type="continuous">
    <origin rpy="0 0 3.14159265" xyz="0 1.101725 0.098425"/>
    <parent link="strikerBlock1"/>
    <child link="strikerRod1"/>
    <axis xyz="0 1 0"/>
  </joint>
  <joint name="strikerRotation2" type="continuous">
    <origin rpy="0 0 3.14159265" xyz="0 1.101725 0.098425"/>
    <parent link="strikerBlock2"/>
    <child link="strikerRod2"/>
    <axis xyz="0 1 0"/>
  </joint>
  <joint name="GP11" type="fixed">
    <origin rpy="0 0 1.5707963267948966" xyz="0 0.235585 0"/>
    <parent link="goalieRod1"/>
    <child link="goaliePlayer11"/>
  </joint>
  <joint name="GP12" type="fixed">
    <origin rpy="0 0 1.5707963267948966" xyz="0 0.44196 0"/>
    <parent link="goalieRod1"/>
    <child link="goaliePlayer12"/>
  </joint>
  <joint name="GP13" type="fixed">
    <origin rpy="0 0 1.5707963267948966" xyz="0 0.648335 0"/>
    <parent link="goalieRod1"/>
    <child link="goaliePlayer13"/>
  </joint>
  <joint name="GP21" type="fixed">
    <origin rpy="0 0 1.5707963267948966" xyz="0 0.235585 0"/>
    <parent link="goalieRod2"/>
    <child link="goaliePlayer21"/>
  </joint>
  <joint name="GP22" type="fixed">
    <origin rpy="0 0 1.5707963267948966" xyz="0 0.44196 0"/>
    <parent link="goalieRod2"/>
    <child link="goaliePlayer22"/>
  </joint>
  <joint name="GP23" type="fixed">
    <origin rpy="0 0 1.5707963267948966" xyz="0 0.648335 0"/>
    <parent link="goalieRod2"/>
    <child link="goaliePlayer23"/>
  </joint>
  <joint name="DP11" type="fixed">
    <origin rpy="0 0 1.5707963267948966" xyz="0 0.41021 0"/>
    <parent link="defenseRod1"/>
    <child link="defensePlayer11"/>
  </joint>
  <joint name="DP12" type="fixed">
    <origin rpy="0 0 1.5707963267948966" xyz="0 0.65151 0"/>
    <parent link="defenseRod1"/>
    <child link="defensePlayer12"/>
  </joint>
  <joint name="DP21" type="fixed">
    <origin rpy="0 0 1.5707963267948966" xyz="0 0.41021 0"/>
    <parent link="defenseRod2"/>
    <child link="defensePlayer21"/>
  </joint>
  <joint name="DP22" type="fixed">
    <origin rpy="0 0 1.5707963267948966" xyz="0 0.65151 0"/>
    <parent link="defenseRod2"/>
    <child link="defensePlayer22"/>
  </joint>
  <joint name="MP11" type="fixed">
    <origin rpy="0 0 1.5707963267948966" xyz="0 0.16891 0"/>
    <parent link="midfieldRod1"/>
    <child link="midfieldPlayer11"/>
  </joint>
  <joint name="MP12" type="fixed">
    <origin rpy="0 0 1.5707963267948966" xyz="0 0.28956 0"/>
    <parent link="midfieldRod1"/>
    <child link="midfieldPlayer12"/>
  </joint>
  <joint name="MP13" type="fixed">
    <origin rpy="0 0 1.5707963267948966" xyz="0 0.4191 0"/>
    <parent link="midfieldRod1"/>
    <child link="midfieldPlayer13"/>
  </joint>
  <joint name="MP14" type="fixed">
    <origin rpy="0 0 1.5707963267948966" xyz="0 0.53086 0"/>
    <parent link="midfieldRod1"/>
    <child link="midfieldPlayer14"/>
  </joint>
  <joint name="MP15" type="fixed">
    <origin rpy="0 0 1.5707963267948966" xyz="0 0.65151 0"/>
    <parent link="midfieldRod1"/>
    <child link="midfieldPlayer15"/>
  </joint>
  <joint name="MP21" type="fixed">
    <origin rpy="0 0 1.5707963267948966" xyz="0 0.16891 0"/>
    <parent link="midfieldRod2"/>
    <child link="midfieldPlayer21"/>
  </joint>
  <joint name="MP22" type="fixed">
    <origin rpy="0 0 1.5707963267948966" xyz="0 0.28956 0"/>
    <parent link="midfieldRod2"/>
    <child link="midfieldPlayer22"/>
  </joint>
  <joint name="MP23" type="fixed">
    <origin rpy="0 0 1.5707963267948966" xyz="0 0.4191 0"/>
    <parent link="midfieldRod2"/>
    <child link="midfieldPlayer23"/>
  </joint>
  <joint name="MP24" type="fixed">
    <origin rpy="0 0 1.5707963267948966" xyz="0 0.53086 0"/>
    <parent link="midfieldRod2"/>
    <child link="midfieldPlayer24"/>
  </joint>
  <joint name="MP25" type="fixed">
    <origin rpy="0 0 1.5707963267948966" xyz="0 0.65151 0"/>
    <parent link="midfieldRod2"/>
    <child link="midfieldPlayer25"/>
  </joint>
  <joint name="SP11" type="fixed">
    <origin rpy="0 0 1.5707963267948966" xyz="0 0.28321 0"/>
    <parent link="strikerRod1"/>
    <child link="strikerPlayer11"/>
  </joint>
  <joint name="SP12" type="fixed">
    <origin rpy="0 0 1.5707963267948966" xyz="0 0.46736 0"/>
    <parent link="strikerRod1"/>
    <child link="strikerPlayer12"/>
  </joint>
  <joint name="SP13" type="fixed">
    <origin rpy="0 0 1.5707963267948966" xyz="0 0.65151 0"/>
    <parent link="strikerRod1"/>
    <child link="strikerPlayer13"/>
  </joint>
  <joint name="SP21" type="fixed">
    <origin rpy="0 0 1.5707963267948966" xyz="0 0.28321 0"/>
    <parent link="strikerRod2"/>
    <child link="strikerPlayer21"/>
  </joint>
  <joint name="SP22" type="fixed">
    <origin rpy="0 0 1.5707963267948966" xyz="0 0.46736 0"/>
    <parent link="strikerRod2"/>
    <child link="strikerPlayer22"/>
  </joint>
  <joint name="SP23" type="fixed">
    <origin rpy="0 0 1.5707963267948966" xyz="0 0.65151 0"/>
    <parent link="strikerRod2"/>
    <child link="strikerPlayer23"/>
  </joint>
</robot>
